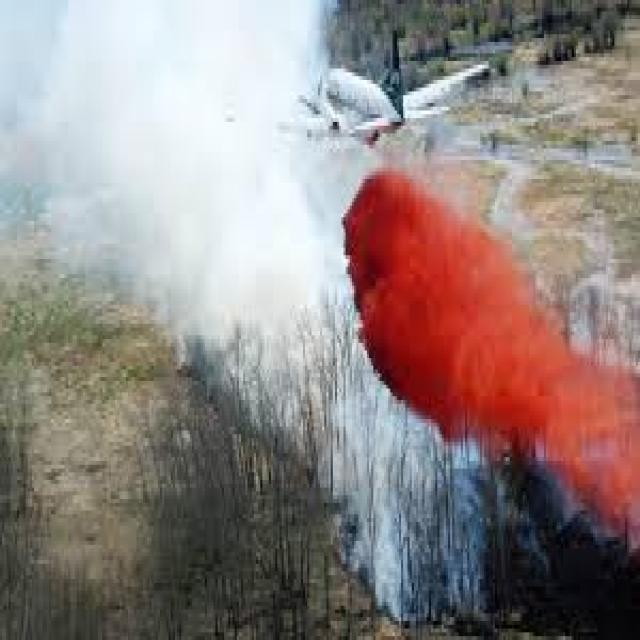Smoke: (26, 38, 340, 320), (348, 178, 576, 424), (261, 358, 440, 602)
